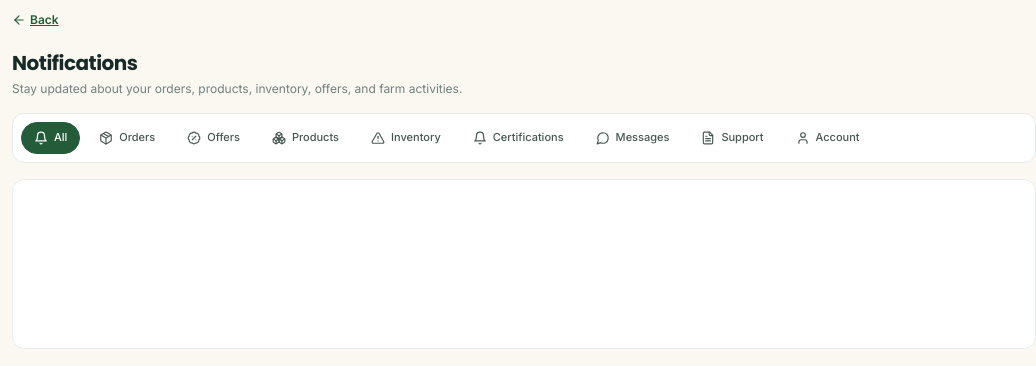
Farmer Notification Centre › Supports products category (empty when no product records)
Click the button "Products" at (306, 138), box [259,122,352,154]
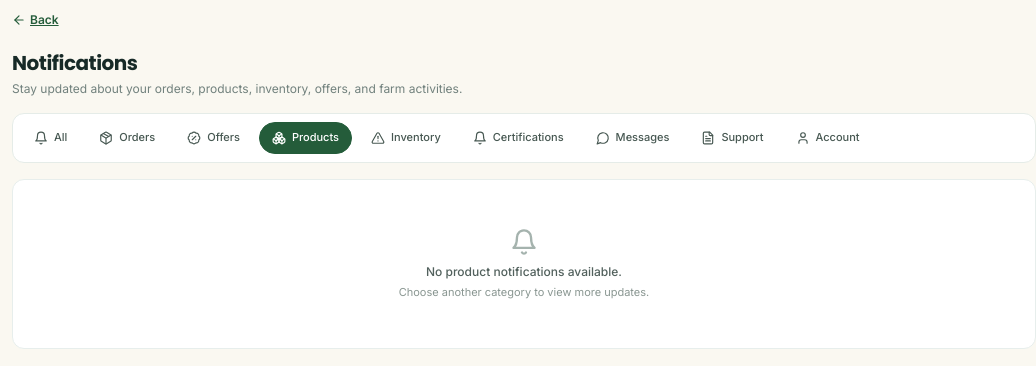
Result: the text "No product notifications available." is shown at [426,264,622,278]
